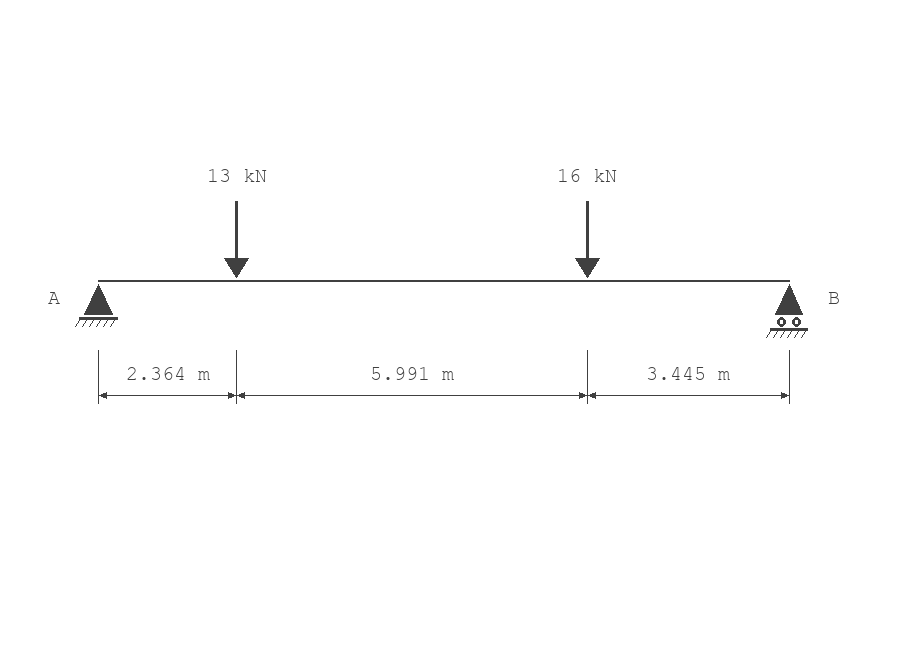pin_support: (75, 284, 118, 327)
point_load: (224, 201, 249, 278), (575, 201, 600, 278)
roller_support: (766, 284, 808, 338)
